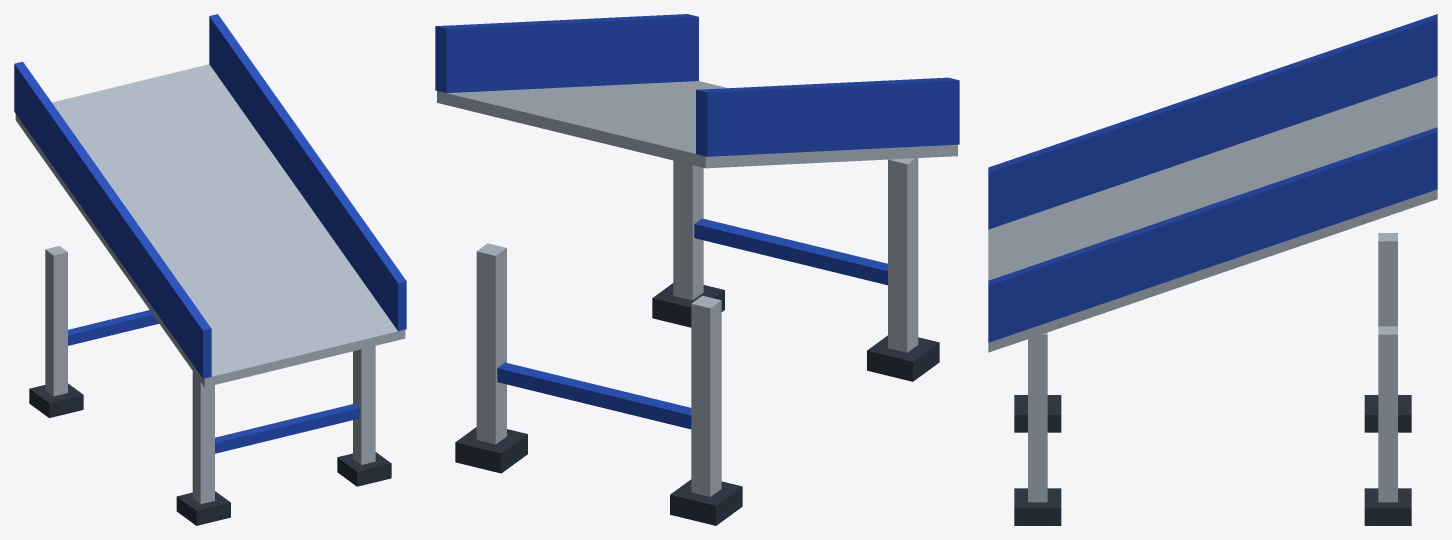
The model's file is SM_MPR_StationChute.fbx.
The picture shows the model from 3 angles, left to right: view 1: azimuth 30°, elevation 25°; view 2: azimuth 150°, elevation 25°; view 3: azimuth 270°, elevation 25°; orthographic projection. The views are drawn at different scales.
Visible parts, largest first — view 1: SM_MPR_StationChute; view 2: SM_MPR_StationChute; view 3: SM_MPR_StationChute.
Boxes of the visible parts, x1,y1,x2,y2 form: SM_MPR_StationChute: (14, 14, 406, 525); SM_MPR_StationChute: (435, 14, 959, 525); SM_MPR_StationChute: (988, 14, 1437, 525).
Bounding box in the file's own units: 71 × 114 × 111.
